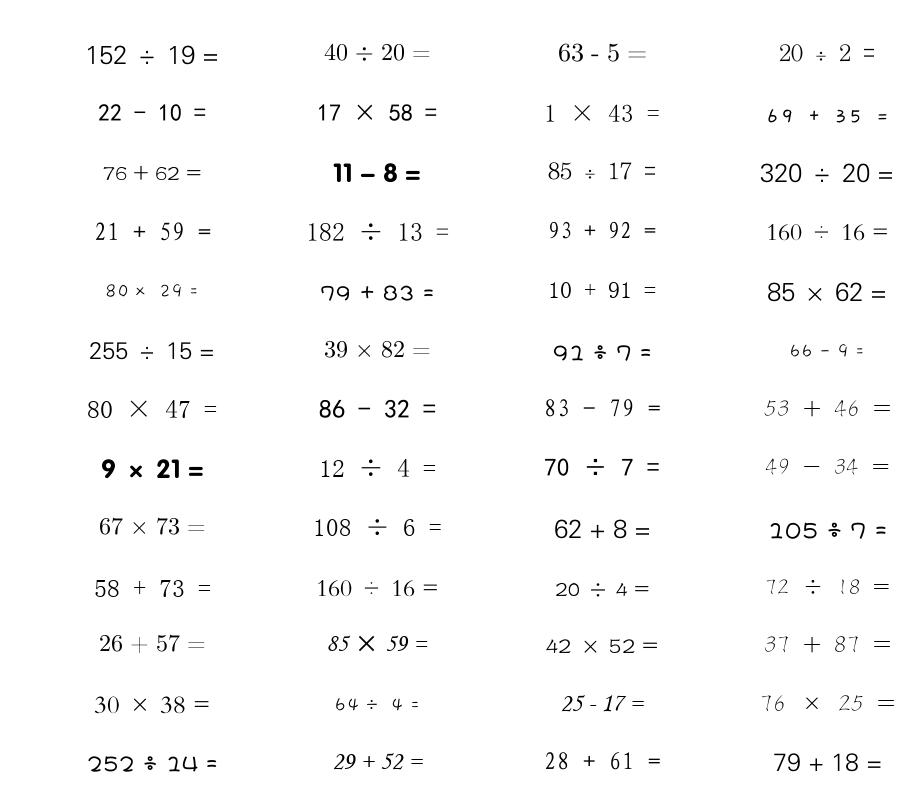MQ: (306, 222, 449, 241), (85, 45, 219, 65), (760, 163, 894, 183), (767, 282, 887, 302), (87, 400, 217, 418), (313, 518, 442, 536), (760, 695, 895, 712), (764, 399, 891, 417), (89, 342, 215, 360), (94, 222, 211, 241), (319, 399, 436, 418), (544, 458, 660, 477), (764, 636, 891, 653), (765, 458, 890, 475), (544, 399, 661, 417), (319, 459, 436, 477), (544, 752, 661, 770), (87, 756, 218, 772), (766, 224, 889, 241), (316, 580, 439, 597), (544, 104, 660, 122), (94, 696, 210, 714), (773, 753, 882, 772), (101, 459, 204, 479), (317, 104, 437, 121), (99, 634, 206, 653), (768, 522, 887, 539), (765, 579, 890, 595), (94, 580, 211, 597), (98, 104, 206, 122), (548, 162, 656, 180), (548, 221, 656, 239), (554, 519, 651, 539), (324, 43, 431, 61), (324, 340, 431, 358), (99, 517, 206, 535), (320, 285, 434, 301), (333, 163, 421, 183), (765, 109, 889, 123), (326, 635, 428, 652), (779, 44, 875, 62), (548, 282, 656, 298), (558, 43, 647, 62), (546, 639, 658, 654), (553, 345, 652, 361), (103, 165, 201, 181), (332, 753, 423, 770), (560, 695, 644, 712), (555, 582, 649, 597), (105, 284, 199, 298), (334, 698, 420, 712), (789, 344, 865, 358)
